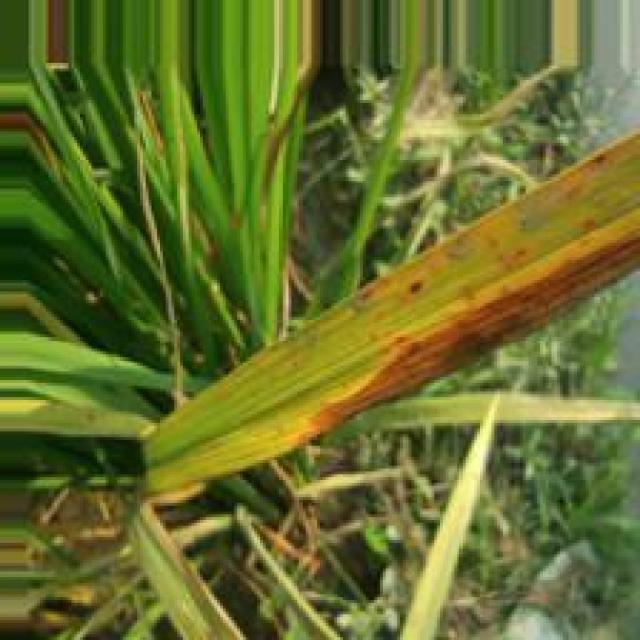Bacterial_Leaf_Blight: (287, 201, 640, 445), (400, 268, 435, 299)
